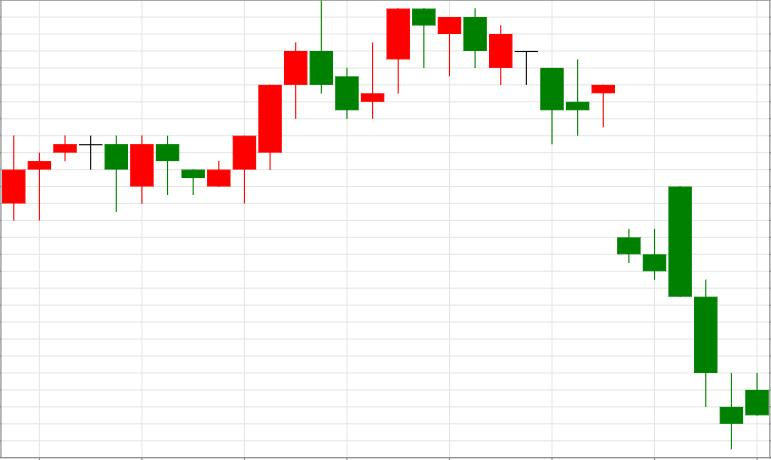shooting_star_fall: (208, 0, 332, 203)
